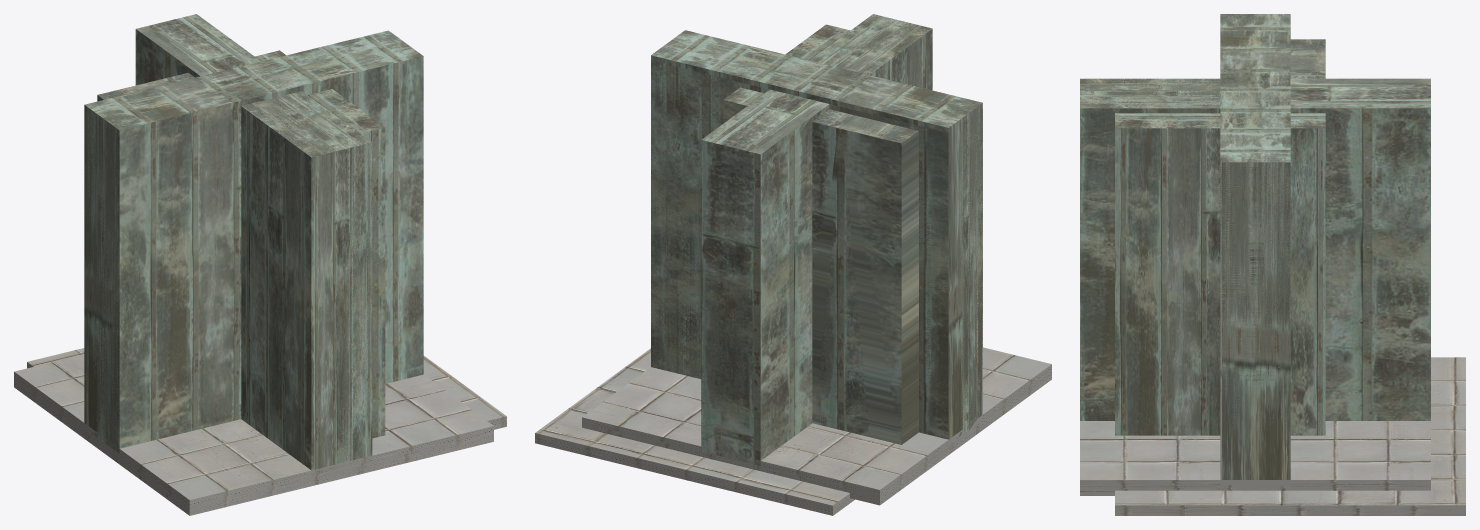
File: Walls.fbx
3 views of the same model, side by side, from view 1: azimuth 30°, elevation 25°; view 2: azimuth 150°, elevation 25°; view 3: azimuth 270°, elevation 25° (orthographic). The views are drawn at different scales.
Visible parts, largest first — view 1: Wall, Middle_wall, Four_wall, Corner, Floor, Opening; view 2: Four_wall, Corner, Wall, Middle_wall, Opening, Floor; view 3: Corner, Four_wall, Wall, Middle_wall, Opening, Floor.
Part boxes in pixels (left/top/right/bottom): Wall: left=14, top=30, right=493, bottom=510; Middle_wall: left=14, top=91, right=458, bottom=515; Four_wall: left=93, top=14, right=493, bottom=478; Corner: left=27, top=50, right=506, bottom=438; Floor: left=14, top=377, right=493, bottom=515; Opening: left=84, top=111, right=460, bottom=507; Four_wall: left=582, top=14, right=965, bottom=467; Corner: left=535, top=24, right=918, bottom=515; Wall: left=582, top=30, right=1051, bottom=494; Middle_wall: left=582, top=14, right=1034, bottom=503; Opening: left=613, top=61, right=982, bottom=492; Floor: left=582, top=369, right=1051, bottom=505; Corner: left=1115, top=39, right=1465, bottom=515; Four_wall: left=1080, top=78, right=1430, bottom=420; Wall: left=1080, top=14, right=1430, bottom=490; Middle_wall: left=1080, top=78, right=1376, bottom=490; Opening: left=1220, top=167, right=1290, bottom=420; Floor: left=1080, top=485, right=1430, bottom=495.
Size of the model in its own units: 220 by 213 by 220.
Materials: 1 (1 with a texture image).
